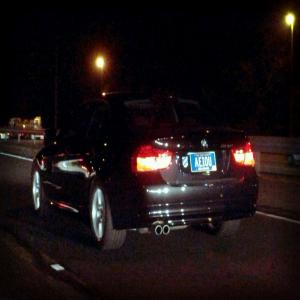Vehicle-registration-plate: (192, 152, 222, 178)
